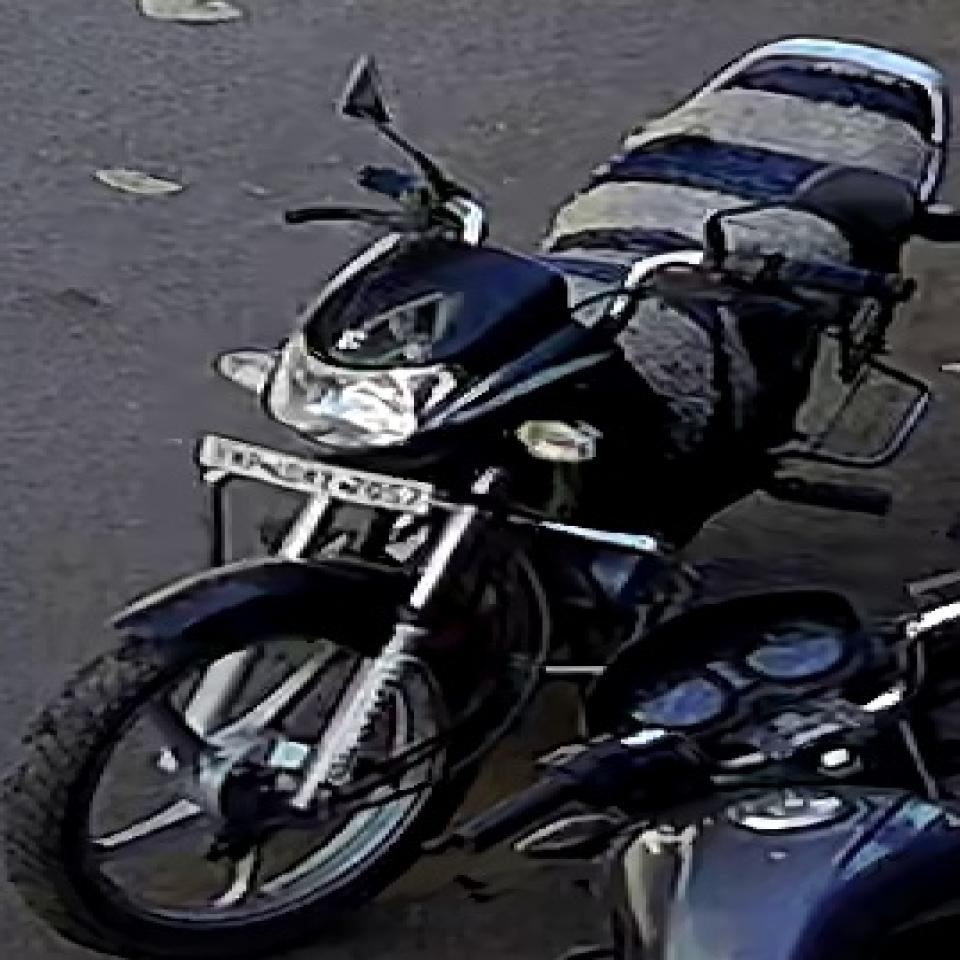head_light: (265, 320, 456, 450)
